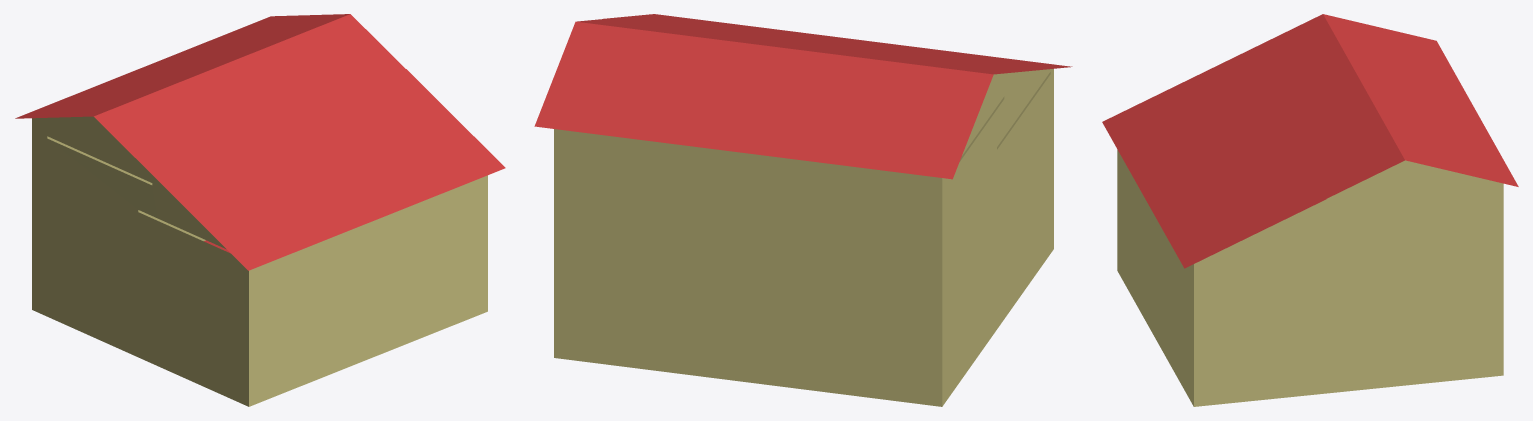
3 renders of one model, left to right at view 1: azimuth 30°, elevation 25°; view 2: azimuth 150°, elevation 25°; view 3: azimuth 270°, elevation 25°, orthographic. The views are drawn at different scales.
Size of the model in its own units: 16.78 by 16.4 by 10.01.
